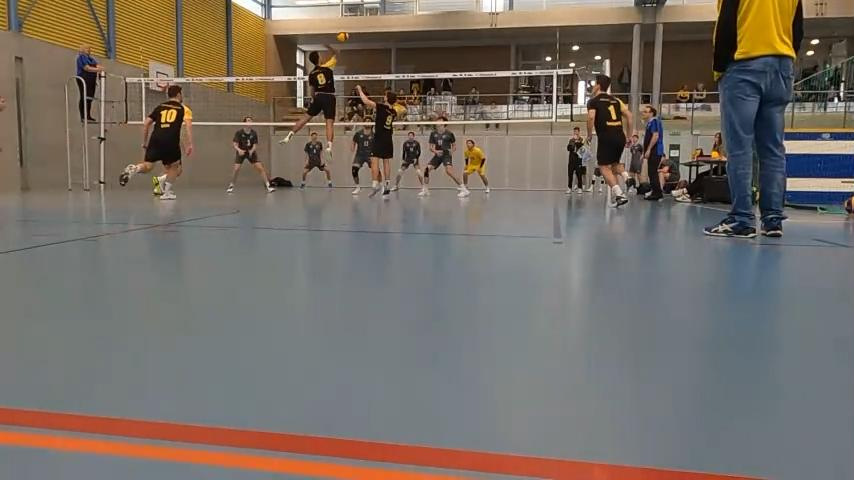Attack: (578, 80, 643, 209), (276, 41, 344, 146)
Player: (119, 85, 193, 199), (587, 75, 631, 206), (356, 86, 396, 196), (419, 116, 469, 197), (227, 116, 274, 192), (299, 132, 333, 190), (391, 131, 422, 190), (351, 126, 373, 194), (462, 139, 489, 192)
ball: (336, 31, 350, 44)
